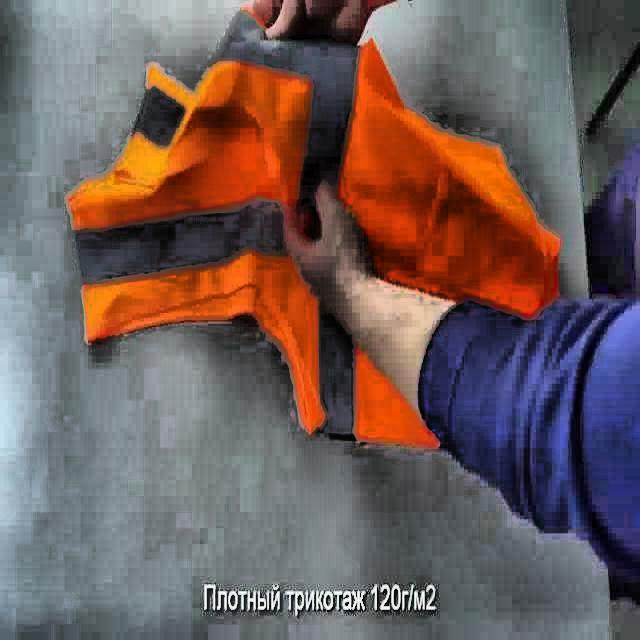safety_jacket: (63, 4, 564, 451)
